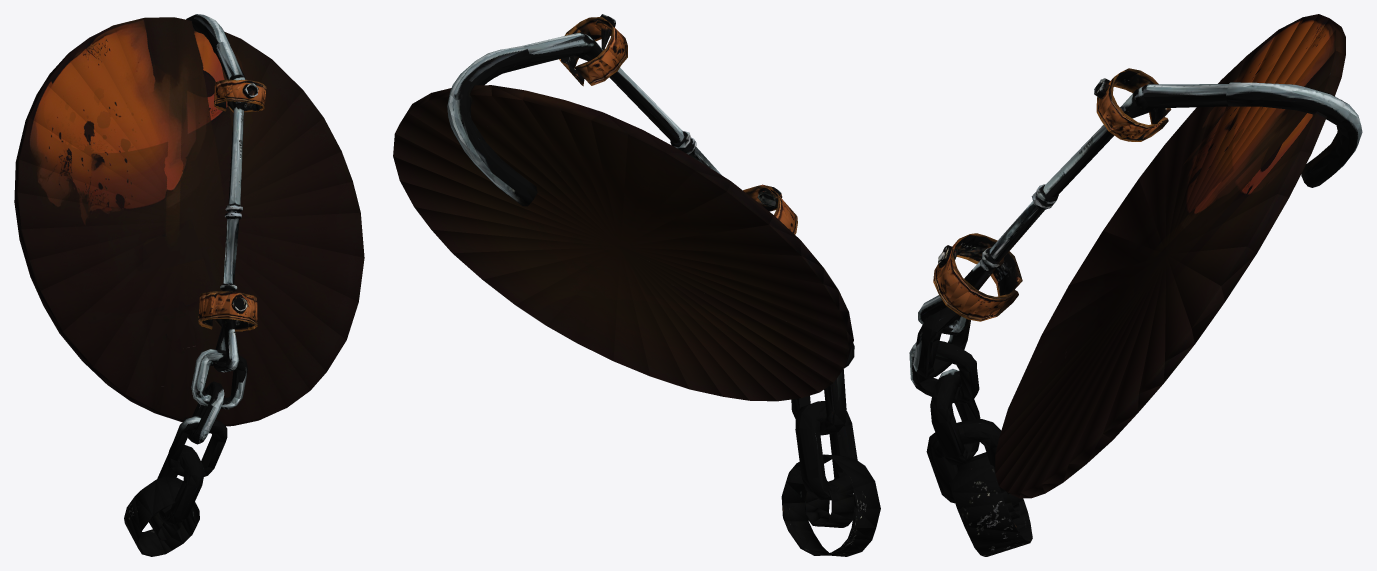
Rendered from wpn_wreckingball.glb.
The picture shows the model from 3 angles, left to right: view 1: azimuth 30°, elevation 25°; view 2: azimuth 150°, elevation 25°; view 3: azimuth 270°, elevation 25°; orthographic projection. The views are drawn at different scales.
Visible parts, largest first — view 1: tripo_node_1bcaeecb; view 2: tripo_node_1bcaeecb; view 3: tripo_node_1bcaeecb.
Boxes of the visible parts, x1=… form: tripo_node_1bcaeecb: x1=14, y1=14, x2=364, y2=556; tripo_node_1bcaeecb: x1=393, y1=14, x2=880, y2=556; tripo_node_1bcaeecb: x1=909, y1=14, x2=1362, y2=556.
Bounding box in the file's own units: 0.8066 × 0.9974 × 0.7097.
1 material, 1 textured.
